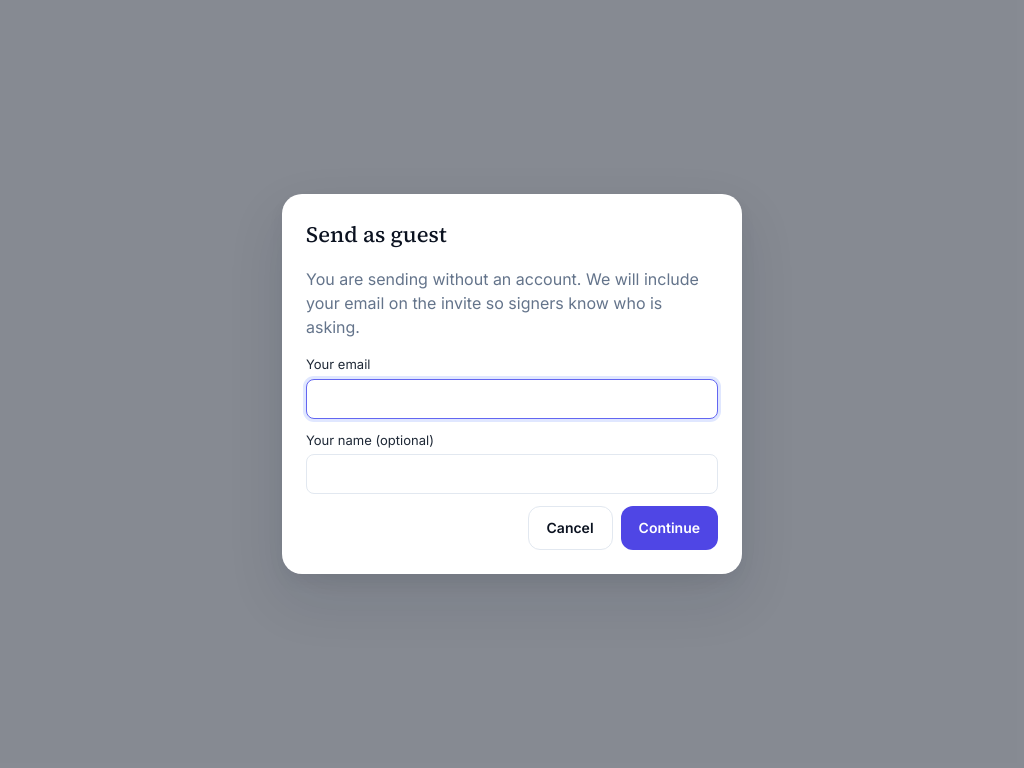
Scenario: GuestSenderEmailDialog › refuses to confirm with an empty email and surfaces an error
Click the button "Continue" at (669, 528), box left=621, top=506, right=718, bottom=550
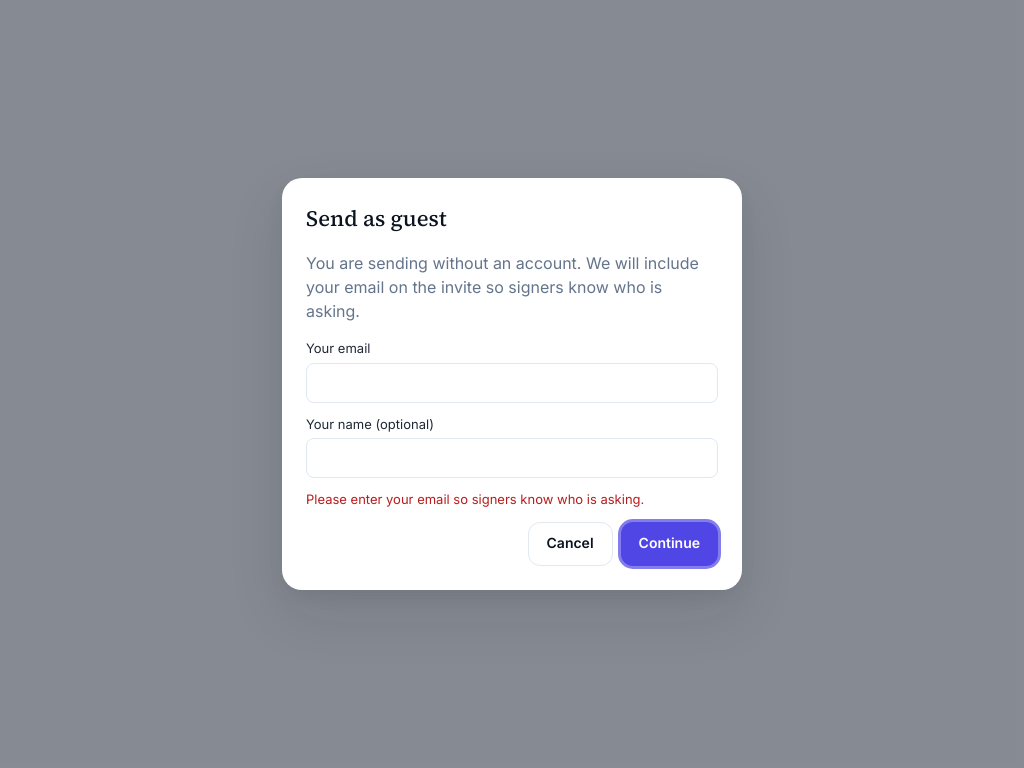
Check: the message shows "email", box left=306, top=491, right=644, bottom=507
